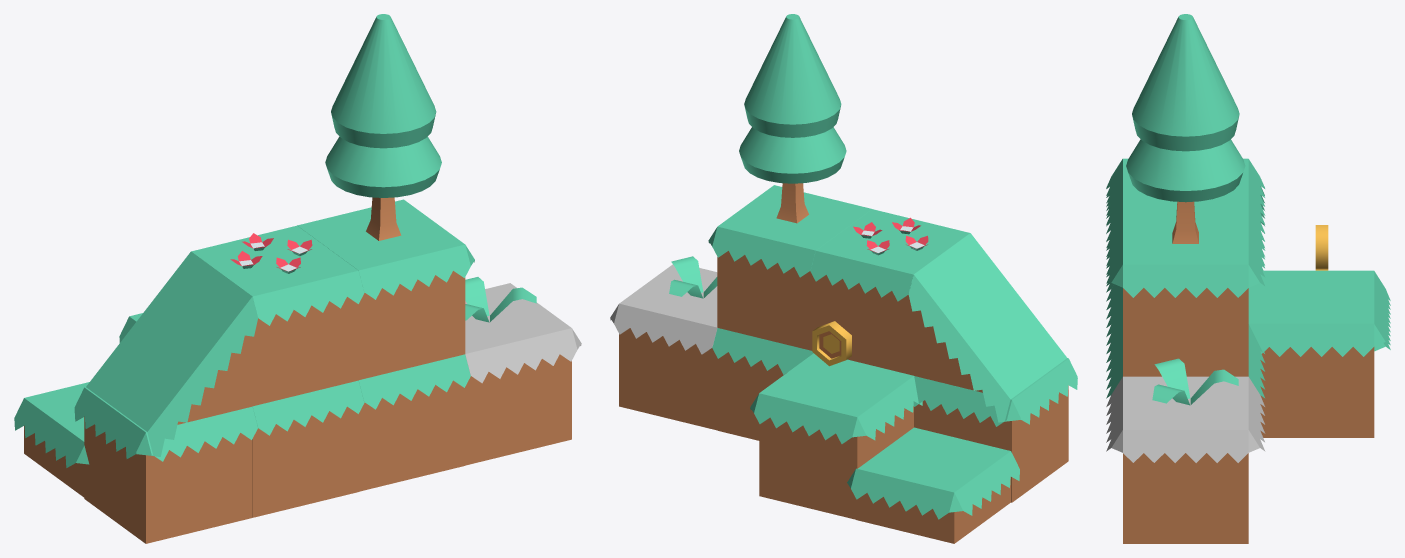
Rendered from island-1.obj.
3 renders of one model, left to right at view 1: azimuth 30°, elevation 25°; view 2: azimuth 150°, elevation 25°; view 3: azimuth 270°, elevation 25°, orthographic. The views are drawn at different scales.
Visible parts, largest first — view 1: blockSlope, block.006, block.002, block.004, block, treePine, block.001, block.005, blockHalf, plant, flowersLow; view 2: block.003, blockSlope, block.002, blockHalf, block.004, block, treePine, block.006, block.001, coinGold, plant, flowersLow; view 3: block, block.002, block.003, treePine, block.004, plant, block.001, block.005, coinGold.
Part boxes in pixels (x1,y1,x2,y2): blockSlope: (74,252,257,458); block.006: (74,387,257,543); block.002: (297,199,474,379); block.004: (191,225,364,406); block: (465,283,581,465); treePine: (325,14,441,240); block.001: (358,354,470,491); block.005: (252,380,364,517); blockHalf: (14,382,89,497); plant: (465,277,536,322); flowersLow: (230,233,312,273); block.003: (750,353,922,519); blockSlope: (908,233,1077,424); block.002: (708,185,872,350); blockHalf: (847,427,1019,543); block.004: (810,209,969,375); block: (610,264,717,430); treePine: (739,14,846,223); block.006: (913,358,1077,502); block.001: (712,328,813,440); coinGold: (812,321,851,366); plant: (669,256,717,298); flowersLow: (853,217,928,255); block: (1106,376,1265,543); block.002: (1106,211,1265,376); block.003: (1248,270,1390,437); treePine: (1126,14,1245,243); block.004: (1106,158,1265,233); plant: (1152,358,1238,405); block.001: (1106,324,1265,398); block.005: (1106,284,1122,345); coinGold: (1315,225,1328,270).
Size of the model in its own units: 4.26 by 3.93 by 2.26.
